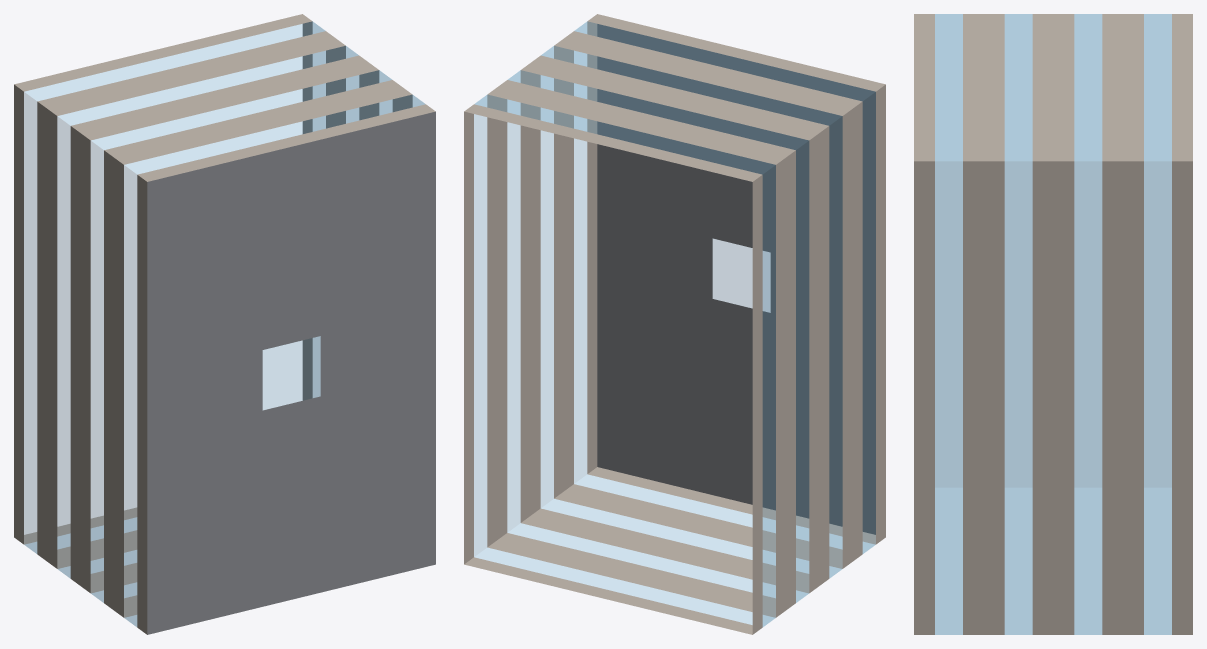
3 views of the same model, side by side, from view 1: azimuth 30°, elevation 25°; view 2: azimuth 150°, elevation 25°; view 3: azimuth 270°, elevation 25° (orthographic). The views are drawn at different scales.
Visible parts, largest first — view 1: Atap_Beton, Dinding_Bata, Kaca_Jendela, Kaca_Skylight; view 2: Dinding_Bata, Atap_Beton, Kaca_Jendela, Kaca_Skylight; view 3: Dinding_Bata, Kaca_Jendela.
Part boxes in pixels (x1,y1,x2,y2): Atap_Beton: (147, 111, 435, 634); Dinding_Bata: (14, 14, 435, 634); Kaca_Jendela: (24, 21, 424, 626); Kaca_Skylight: (263, 336, 320, 409); Dinding_Bata: (464, 14, 885, 634); Atap_Beton: (597, 24, 875, 534); Kaca_Jendela: (474, 21, 875, 626); Kaca_Skylight: (713, 239, 769, 311); Dinding_Bata: (914, 14, 1192, 634); Kaca_Jendela: (935, 14, 1171, 634).
Bounding box in the file's own units: 20 × 30 × 16.
